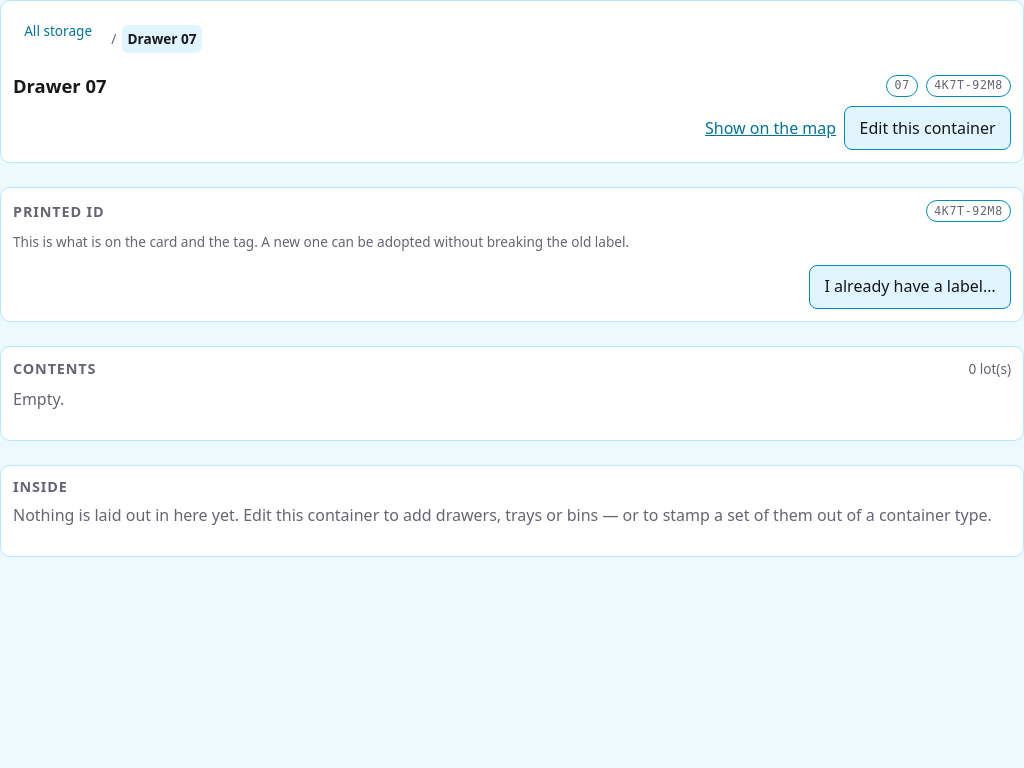
Test: the printed id › says the old code still resolves after relabelling
Click the button "I already have a label…" at (910, 287), box [809, 265, 1011, 309]
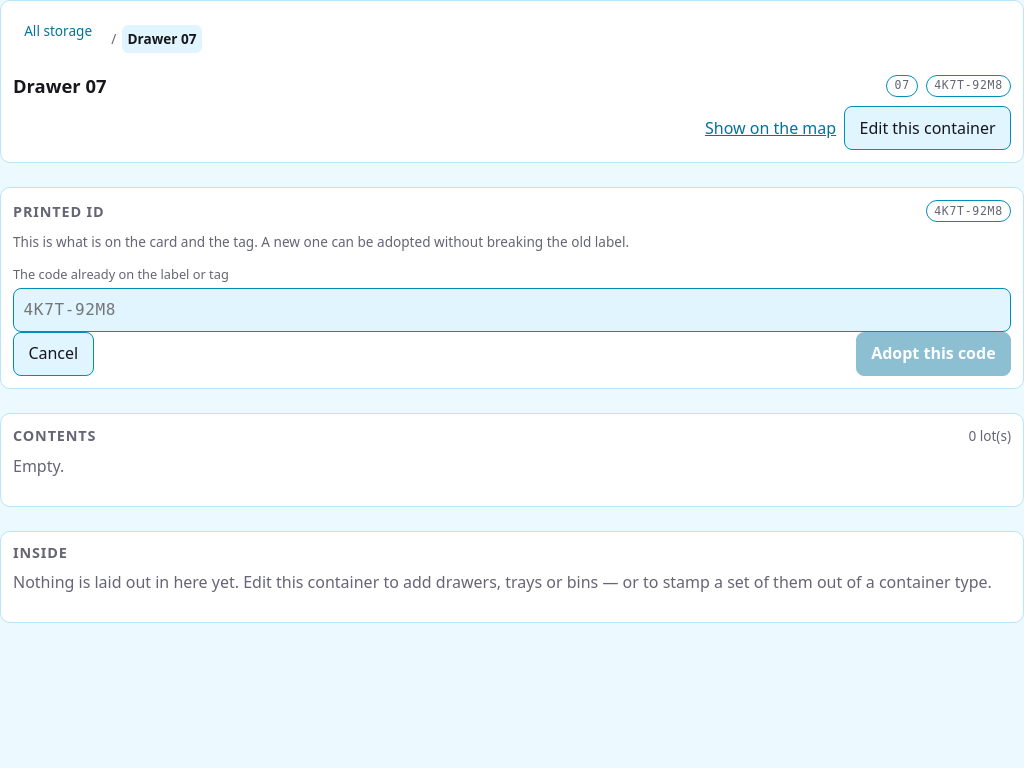
Type "9P2X-R4T7" into the field at (512, 310), box [13, 288, 1011, 332]
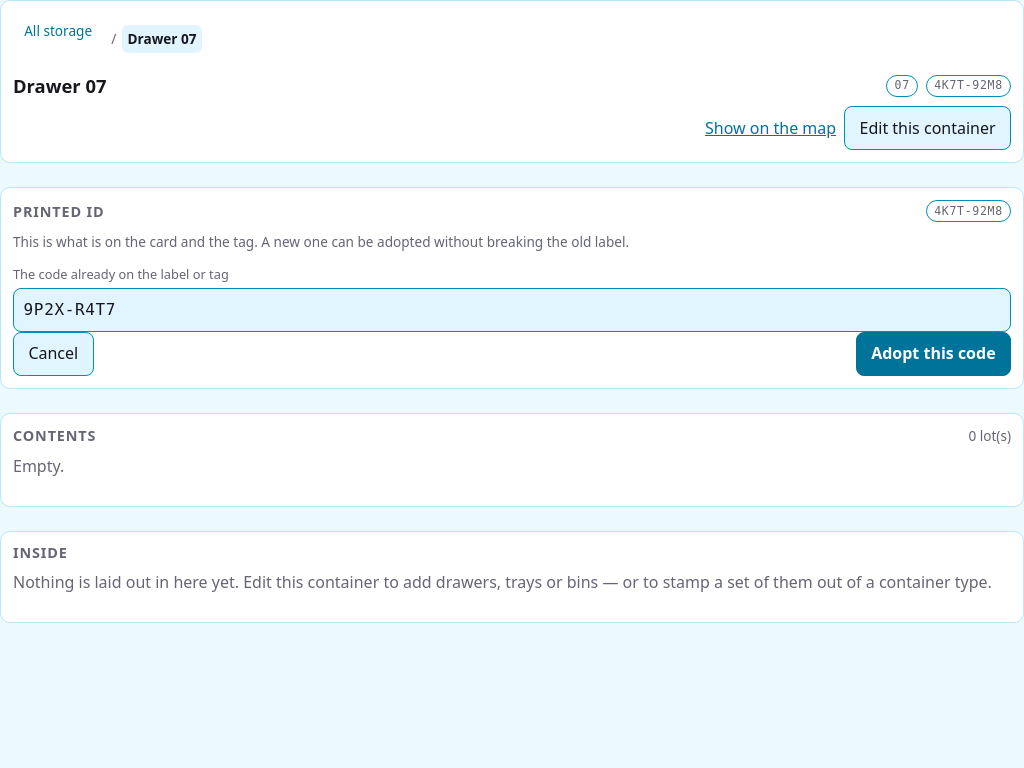
Click the button "Adopt this code" at (933, 354), box [856, 332, 1011, 376]
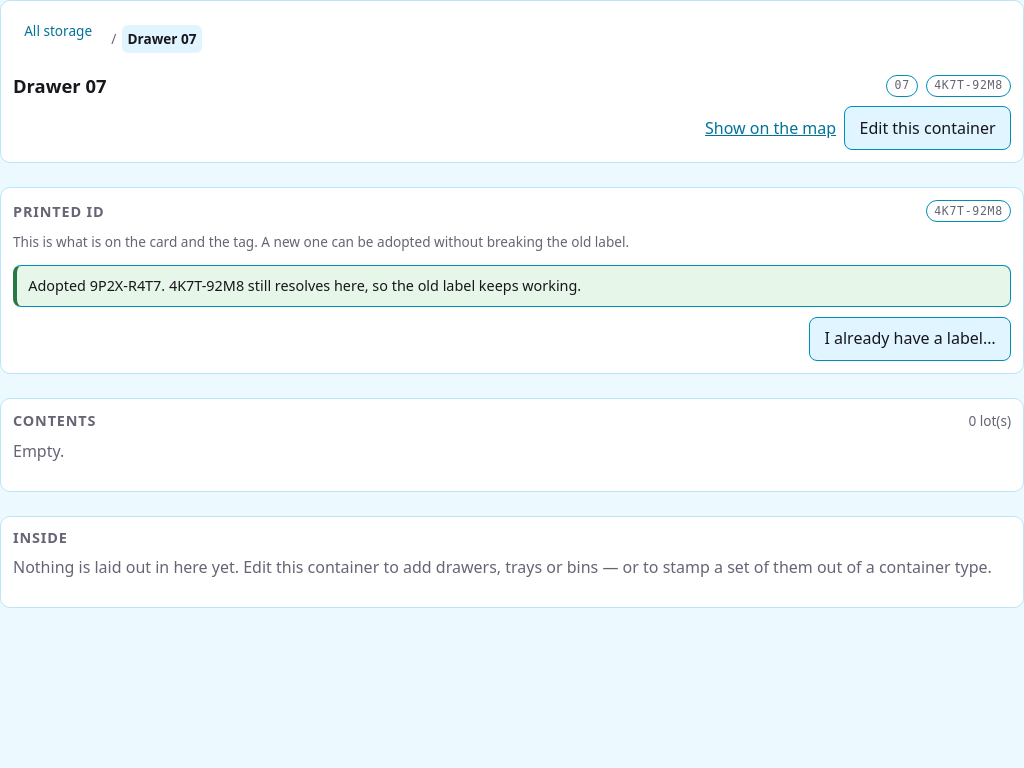
Result: the text "4K7T-92M8 still resolves here" is shown at [28, 276, 581, 295]
